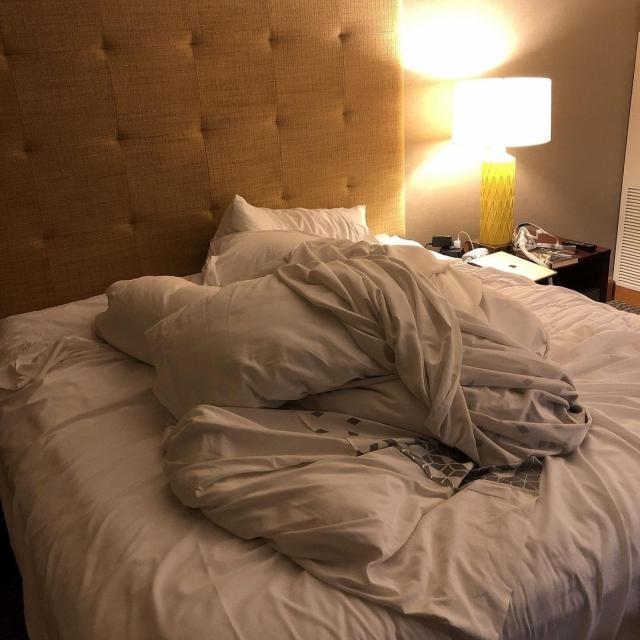bed: (0, 181, 640, 640)
